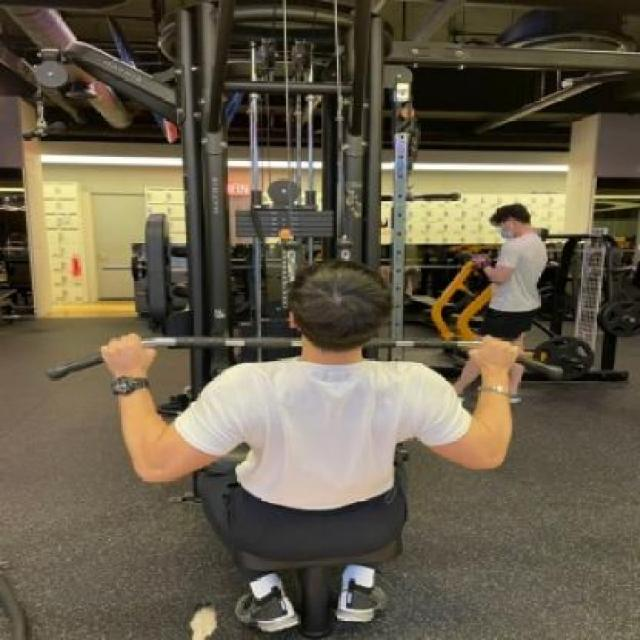Lat Pull Down: (32, 3, 568, 640)
